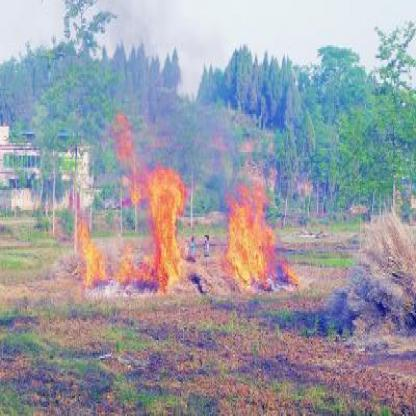fire: (117, 162, 184, 286), (224, 171, 272, 290), (66, 197, 108, 285)
